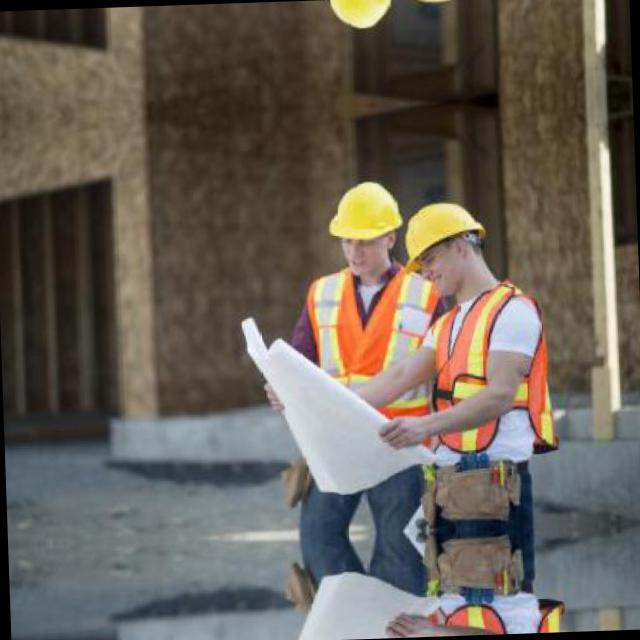helmet: (316, 170, 406, 291), (400, 186, 498, 297), (310, 0, 399, 40), (392, 0, 488, 19)
